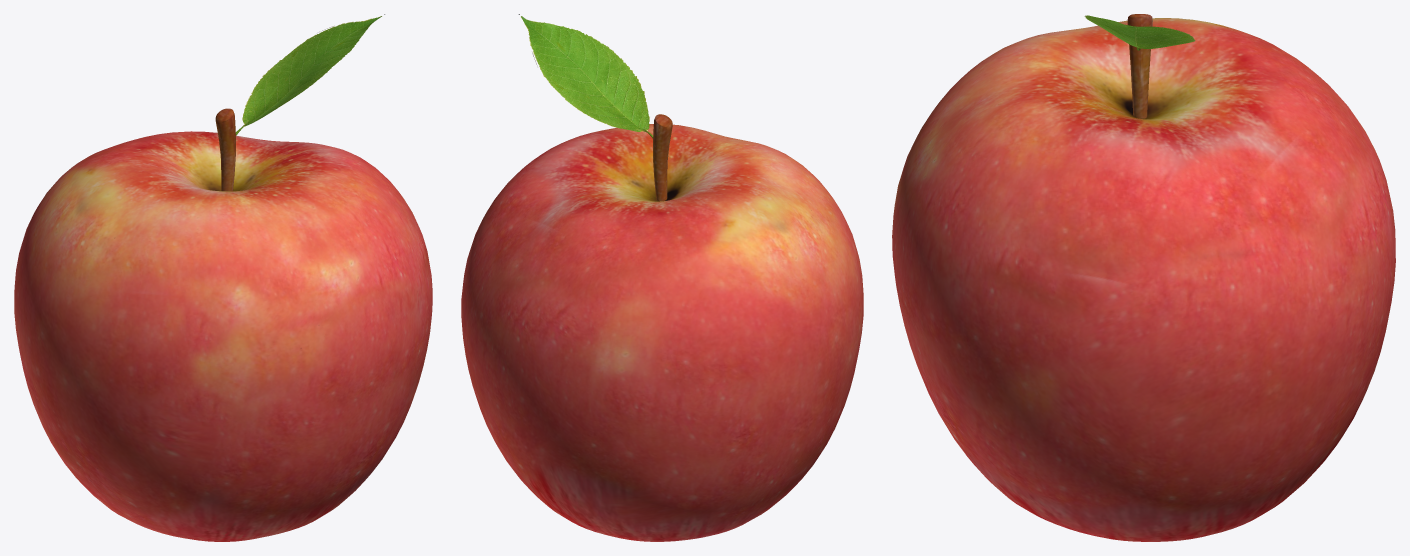
The model's file is apple.fbx.
3 renders of one model, left to right at view 1: azimuth 30°, elevation 25°; view 2: azimuth 150°, elevation 25°; view 3: azimuth 270°, elevation 25°, orthographic. The views are drawn at different scales.
Parts seen in each view (by area): view 1: Apple001, Apple002; view 2: Apple001, Apple002; view 3: Apple001, Apple002.
Part boxes in pixels (x1,y1,x2,y2): Apple001: (14, 108, 432, 541); Apple002: (242, 14, 384, 126); Apple001: (461, 114, 863, 541); Apple002: (518, 14, 650, 132); Apple001: (892, 14, 1395, 541); Apple002: (1084, 15, 1195, 48).
Bounding box in the file's own units: 48.65 × 59.65 × 48.08.
2 materials, 2 textured.
